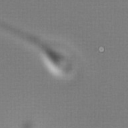normal: (1, 18, 45, 52)
